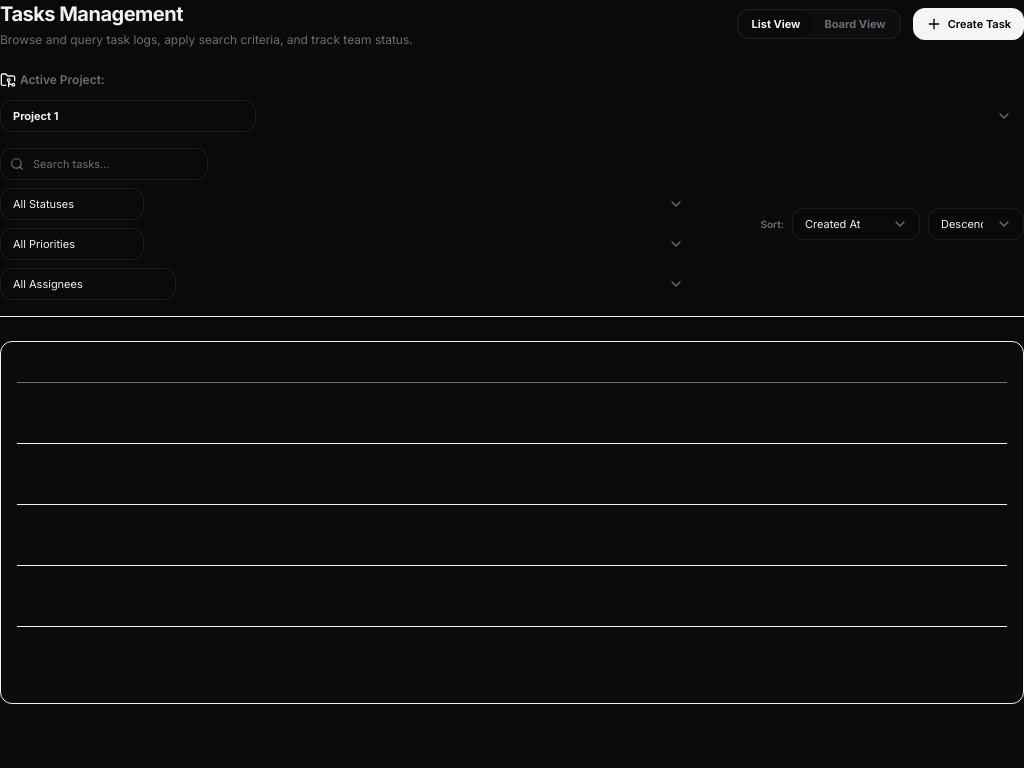
Test: TasksListPage › should open create task dialog on button click
Step 1. Click the button "Create Task" → (968, 24), box [913,8,1023,40]
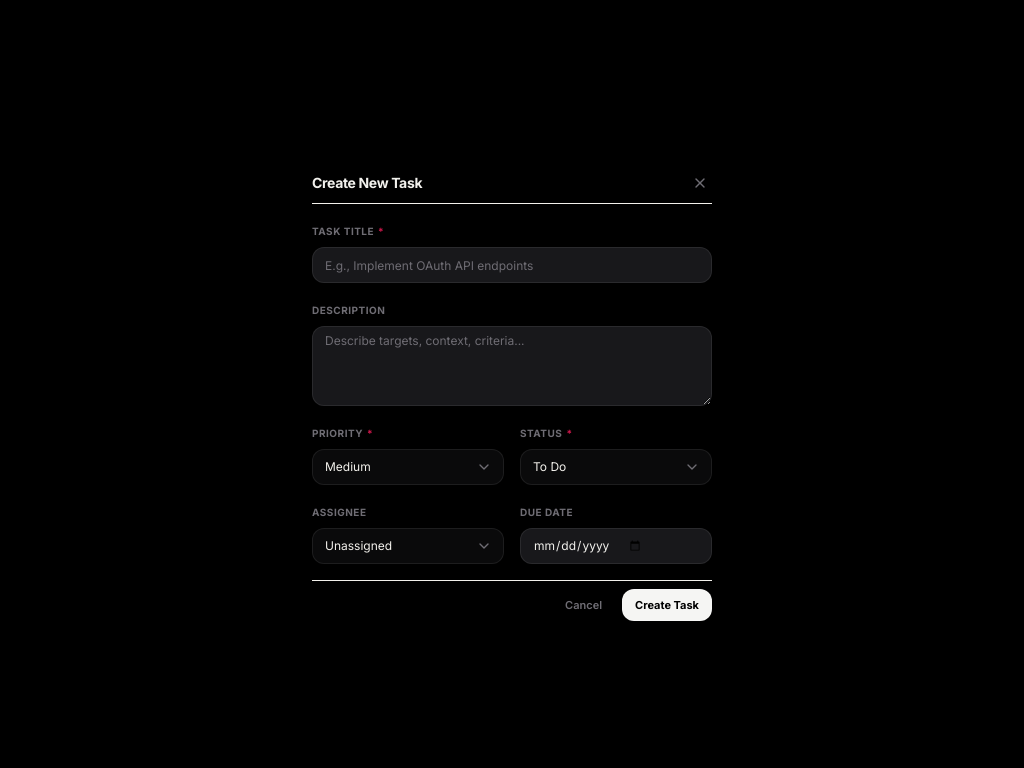
Expected: the dialog is shown, [288,147,736,645]
Expected: the heading "Create New Task" is shown, [312,173,422,193]
